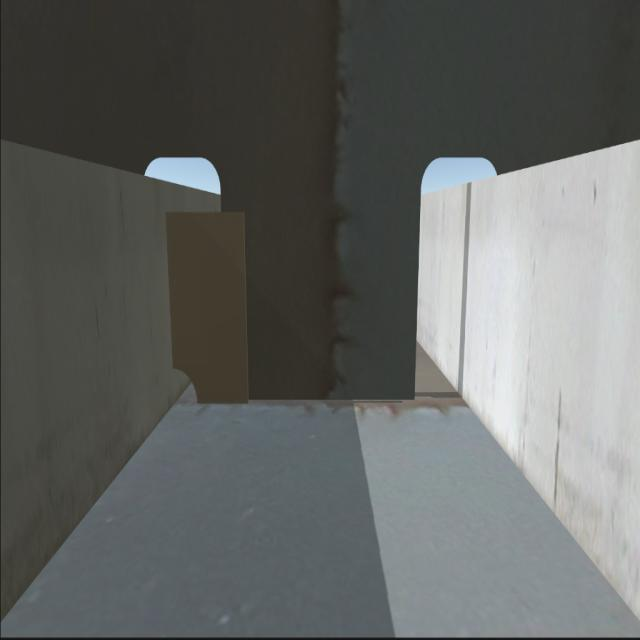fillet_hole: (173, 366, 202, 409)
fillet_yong_jeop_jang: (198, 396, 418, 404)
longi_yong_jeop_jang: (164, 214, 180, 374)
plate_CP01: (168, 211, 250, 406)
